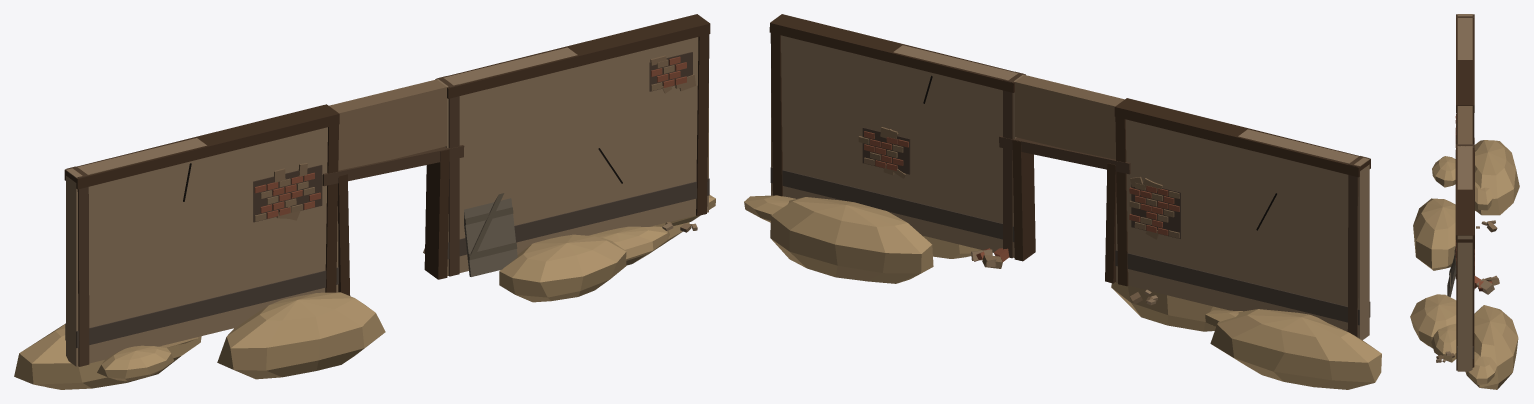
Rendered from TownWallDoor.glb.
The picture shows the model from 3 angles, left to right: view 1: azimuth 30°, elevation 25°; view 2: azimuth 150°, elevation 25°; view 3: azimuth 270°, elevation 25°; orthographic projection. The views are drawn at different scales.
Visible parts, largest first — view 1: TownWallDoor.001; view 2: TownWallDoor.001; view 3: TownWallDoor.001.
Part boxes in pixels (box(x1,y1,x2,y2)): TownWallDoor.001: box(14, 14, 715, 389); TownWallDoor.001: box(744, 14, 1381, 389); TownWallDoor.001: box(1410, 14, 1519, 389).
Bounding box in the file's own units: 15.21 × 5.09 × 2.93.
